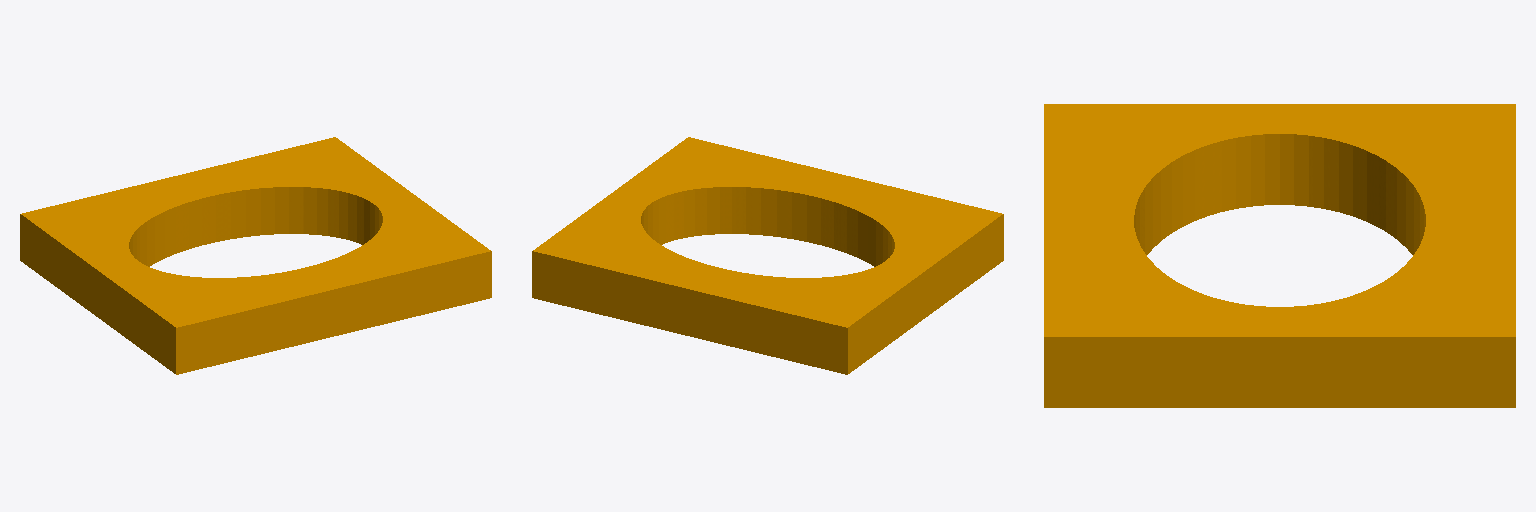
URDF robot description (ellipse_peg):
<?xml version="1.0"?>
<robot name="ellipse_peg">
    <link name="ellipse_peg">
        <visual>
            <!--origin xyz="0 0 0.01905" rpy="0 1.57079632679 0"-->
            <geometry>
                <mesh filename="../mesh/factory_insertion/ellipse_hole.obj"/>
            </geometry>
        </visual>
        <collision>
            <!--origin xyz="0 0 0.01905" rpy="0 1.57079632679 0"-->
            <geometry>
                <mesh filename="../mesh/factory_insertion/ellipse_hole.obj"/>
            </geometry>
                        <sdf resolution="256" />

        </collision>
    </link>
</robot>

--- Render facts (derived) ---
Views: 3 orthographic renders of the robot side by side, from view 1: azimuth 30°, elevation 25°; view 2: azimuth 150°, elevation 25°; view 3: azimuth 270°, elevation 25°.
Robot: ellipse_peg — 1 links, 0 joints (none); root link ellipse_peg; default pose: every joint at zero.
Links seen in each view (by area): view 1: ellipse_peg; view 2: ellipse_peg; view 3: ellipse_peg.
Link boxes in pixels (x1,y1,x2,y2): ellipse_peg: (20, 137, 491, 374); ellipse_peg: (532, 137, 1003, 374); ellipse_peg: (1044, 104, 1515, 407).
Bounding box of the posed robot: 0.07 × 0.06 × 0.01 m (x, y, z).
1 mesh visuals loaded from 1 distinct referenced files (1 OBJ).
